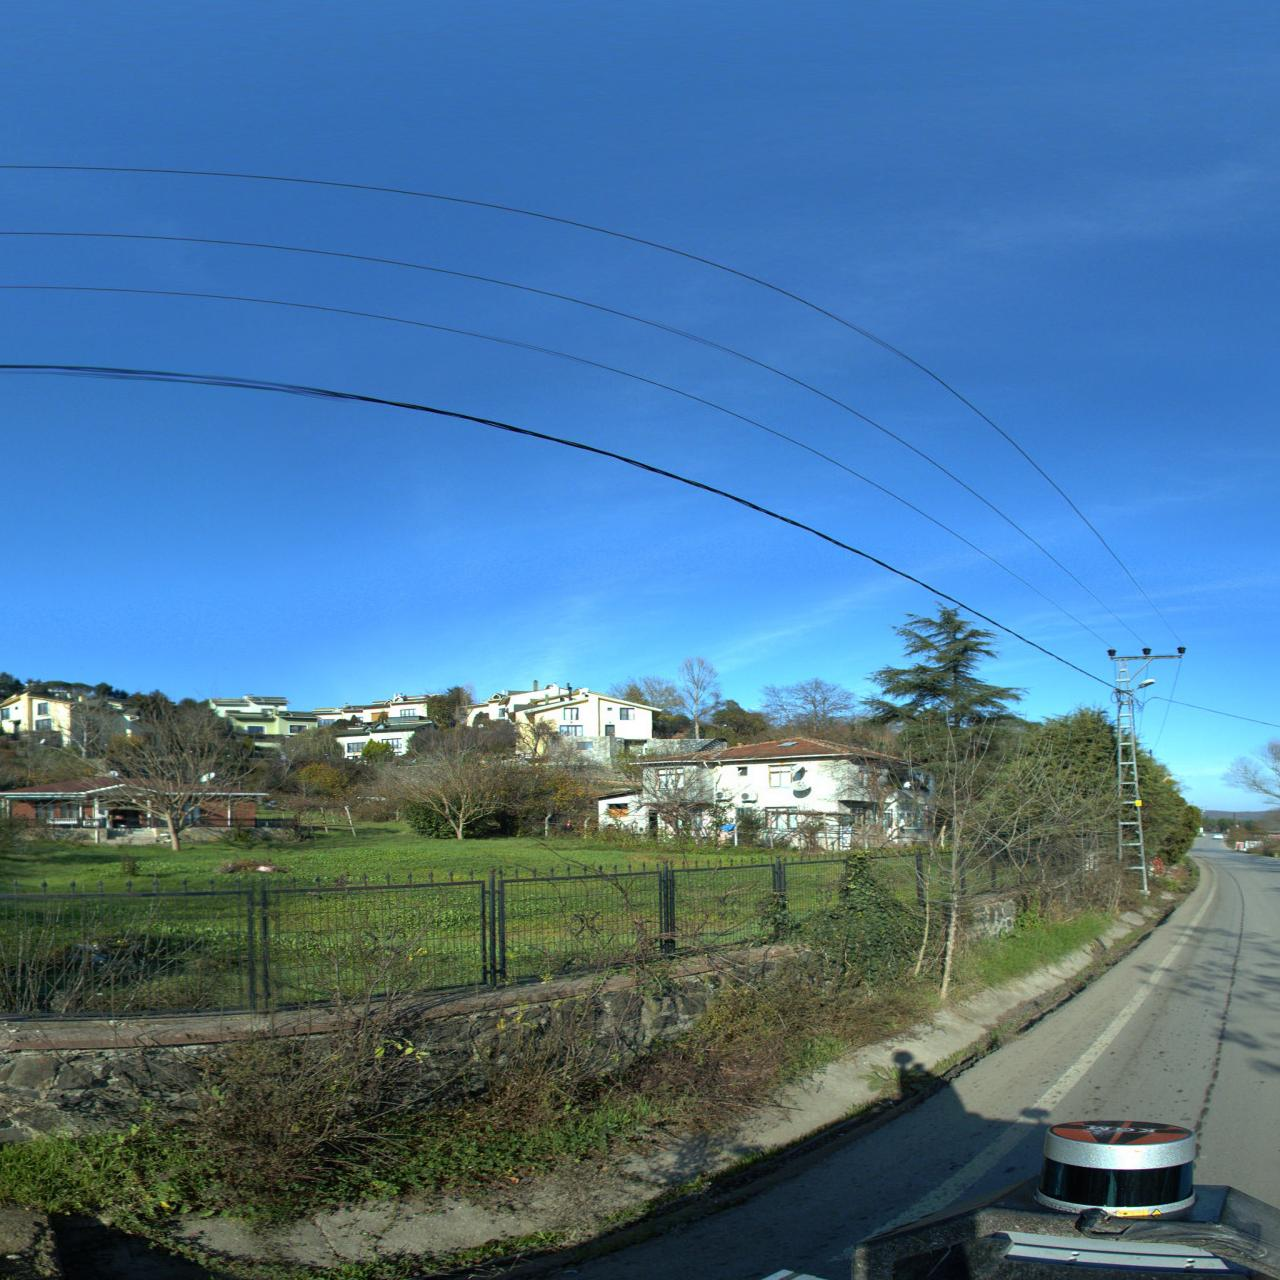Utility Pole Information Plate: (1135, 799, 1142, 806)
